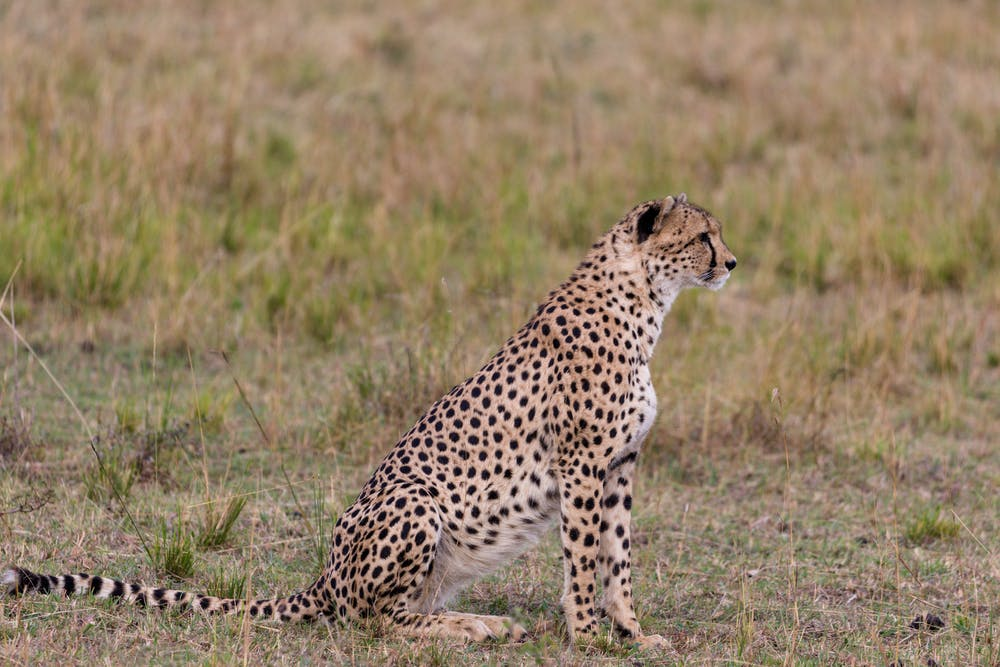cheetah: (619, 182, 741, 315)
